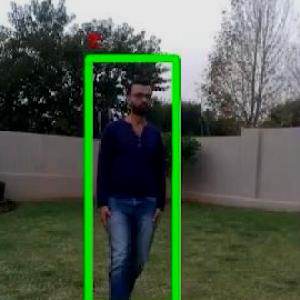follow: (86, 49, 176, 299)
